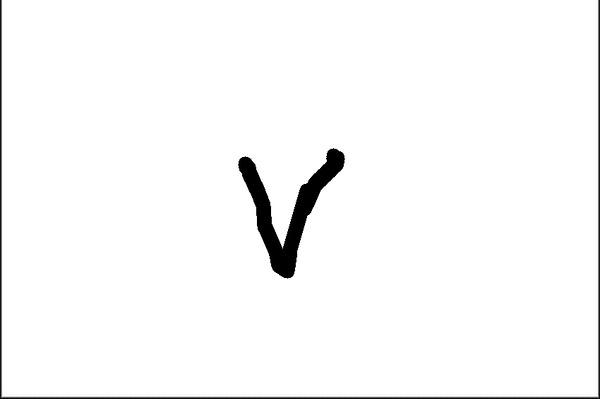V: (234, 138, 348, 283)
